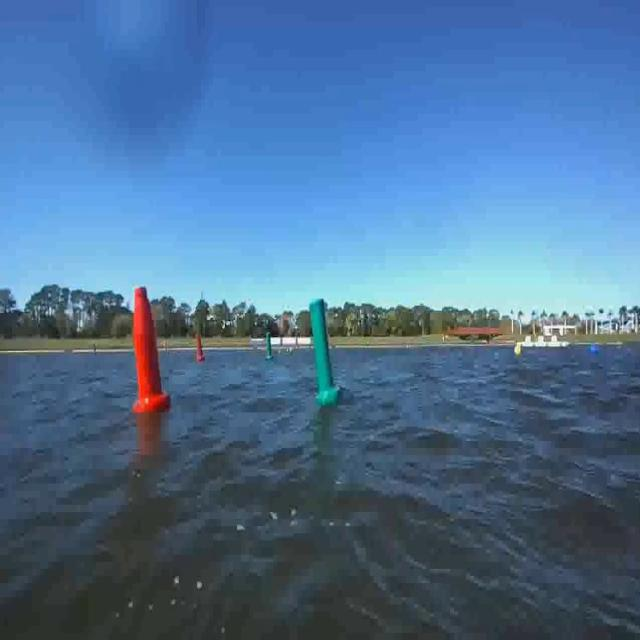blue-buoy: (590, 342, 599, 357)
green-column-buoy: (308, 295, 340, 405), (266, 334, 276, 362)
red-column-buoy: (130, 283, 169, 413), (197, 336, 206, 362)
yellow-buoy: (516, 342, 524, 358)
